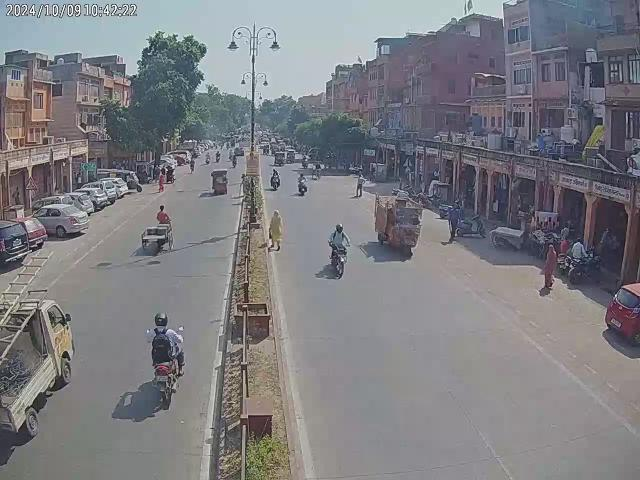auto: (210, 169, 229, 196), (274, 150, 286, 166)
car: (31, 202, 90, 240), (605, 283, 640, 347), (90, 178, 125, 199)
helmet: (154, 313, 170, 326), (336, 222, 344, 233)
lorry: (0, 292, 76, 440), (374, 191, 422, 258)
motorbike: (566, 255, 610, 288)
motorbike-rider: (145, 310, 187, 409), (326, 224, 352, 278)
person: (540, 244, 560, 288), (268, 210, 284, 252), (568, 236, 588, 262), (354, 171, 366, 198)
scooty: (458, 214, 488, 236)
scooty-rider: (269, 168, 280, 190), (298, 173, 308, 197)
